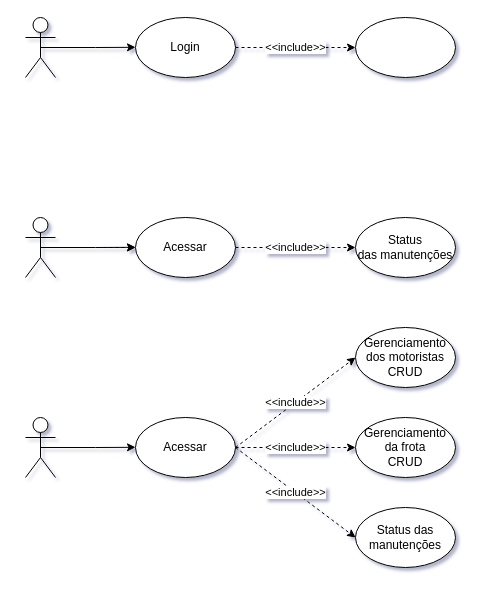
Some shapes in this 479 by 591 pixel diagram are drawn without their labels. Each missing label, with the centre of its shape:
Actor: point 40,47
Gerente: point 40,447
Operario: point 40,247
Validar nível de acesso: point 405,47
